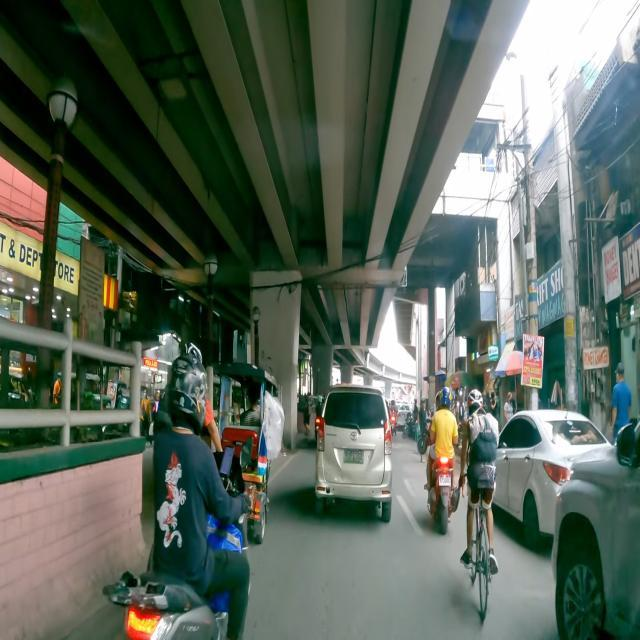bike: (459, 389, 498, 623)
car: (549, 419, 640, 640), (492, 410, 616, 550), (316, 388, 392, 526)
motorcycle: (104, 344, 250, 640), (426, 387, 460, 537), (389, 399, 398, 437)
tricycle: (212, 360, 278, 548)
